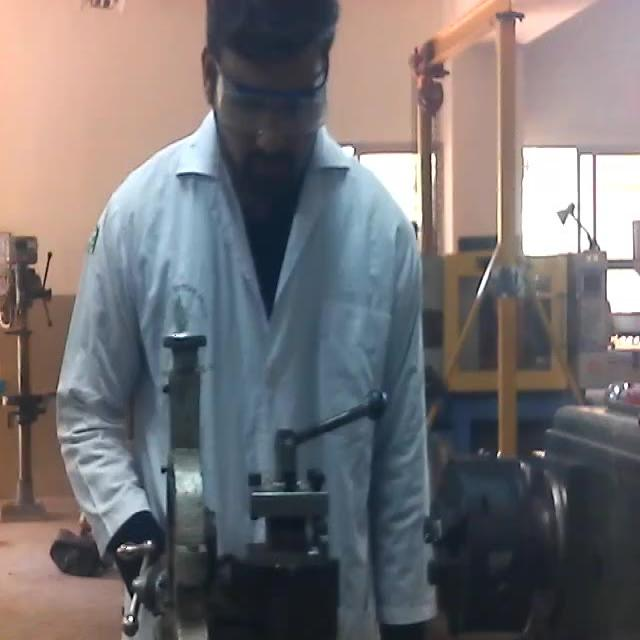googles: (211, 60, 331, 115)
labcoat: (49, 111, 444, 626)
